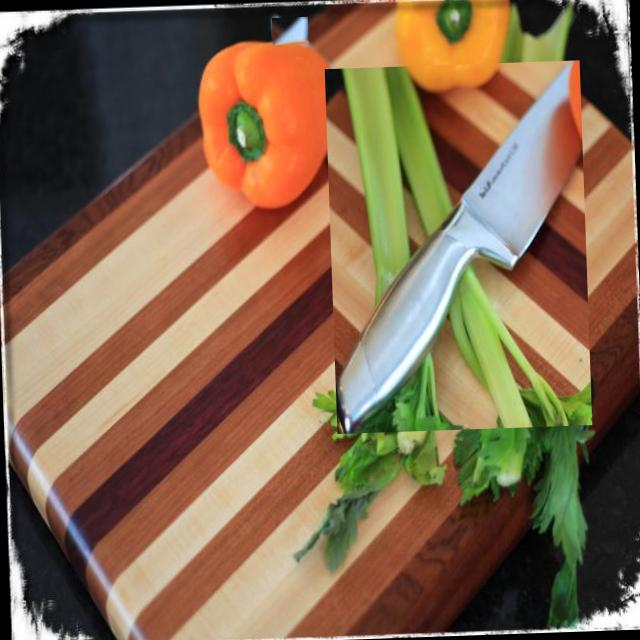Knife: (337, 60, 582, 433), (273, 17, 307, 44)
